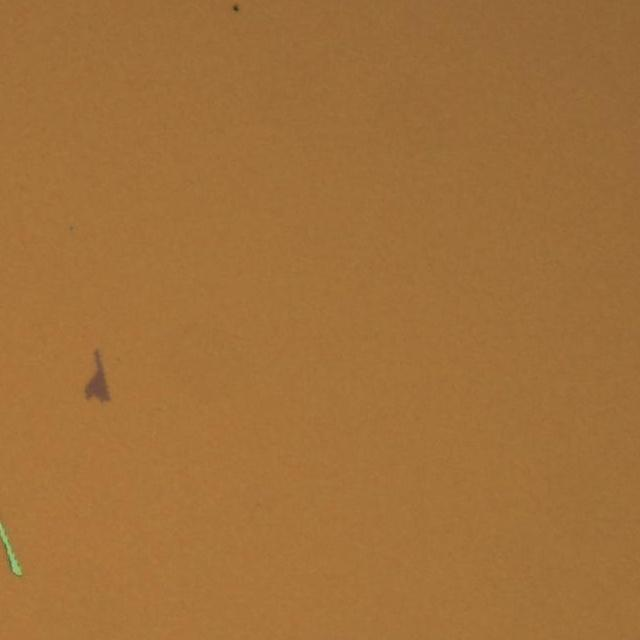monolayer-eWW4: (82, 349, 111, 404)
